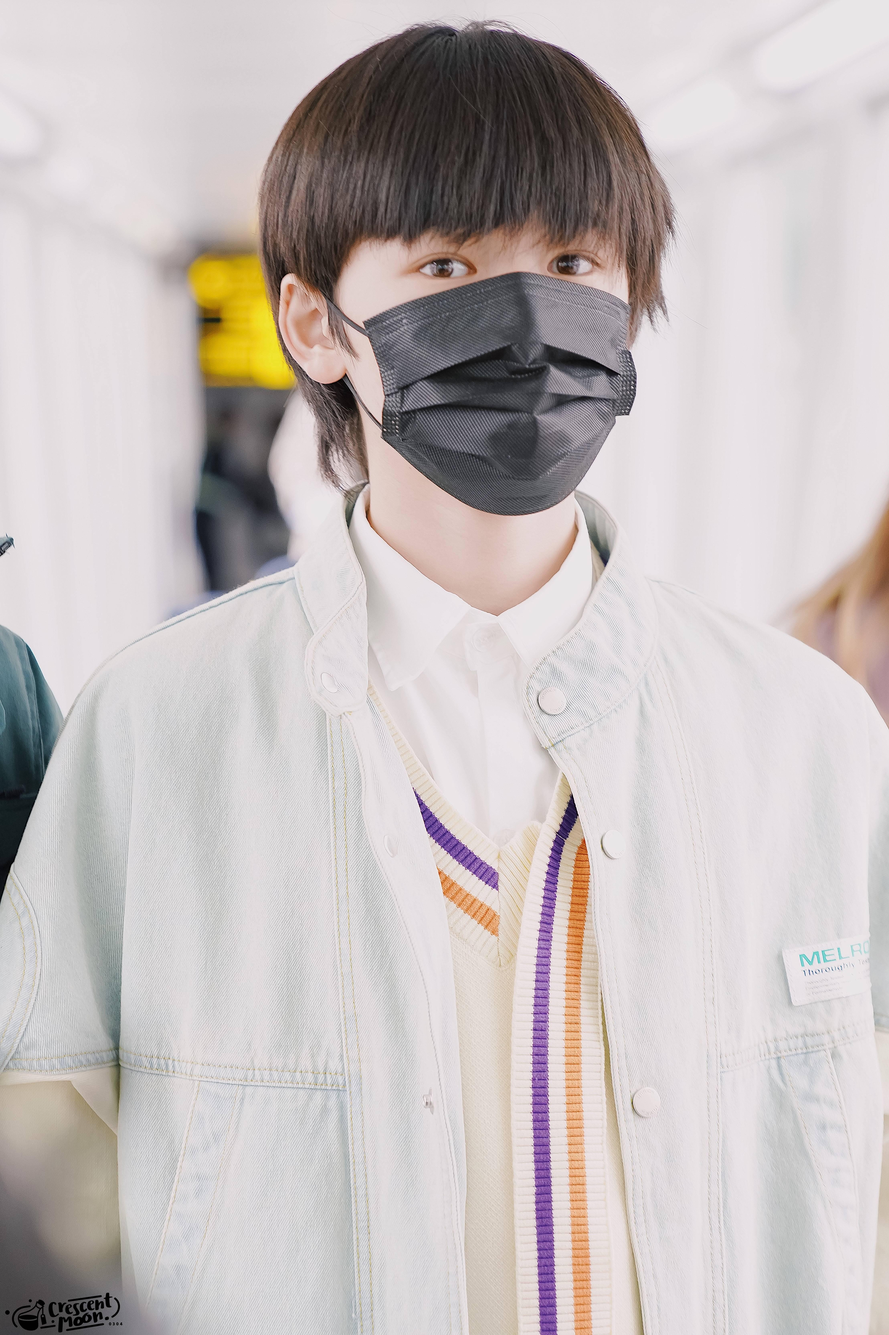OK: (359, 192, 635, 515)
